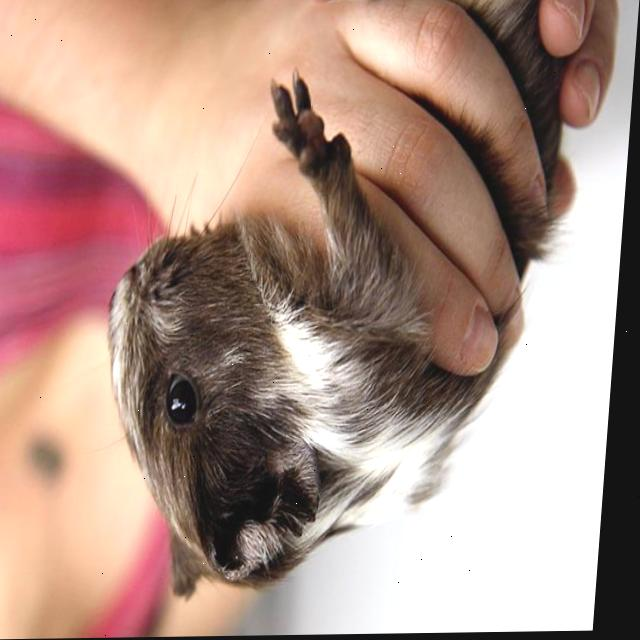guinea pig: (97, 0, 570, 602)
